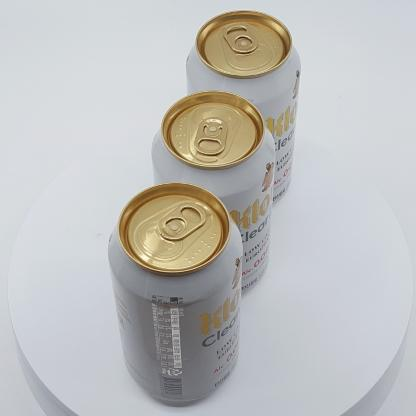--------------350ML: (108, 182, 243, 401), (151, 90, 275, 299), (186, 10, 300, 209)
